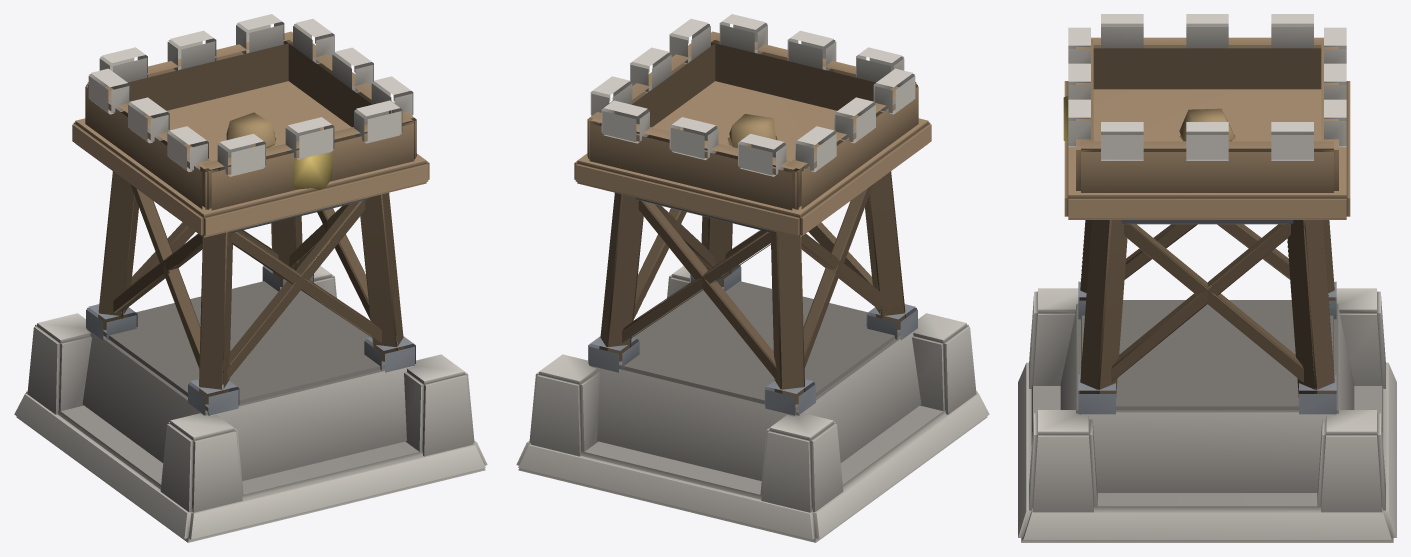
File: quill_archer_spire_lod1.glb
3 views of the same model, side by side, from view 1: azimuth 30°, elevation 25°; view 2: azimuth 150°, elevation 25°; view 3: azimuth 270°, elevation 25° (orthographic). The views are drawn at different scales.
Visible parts, largest first — view 1: quill_archer_spire.001; view 2: quill_archer_spire.001; view 3: quill_archer_spire.001.
Part boxes in pixels (left/top/right/bottom): quill_archer_spire.001: left=14, top=14, right=487, bottom=542; quill_archer_spire.001: left=516, top=14, right=989, bottom=542; quill_archer_spire.001: left=1018, top=14, right=1396, bottom=542.
Size of the model in its own units: 3.03 by 3.45 by 3.03.
